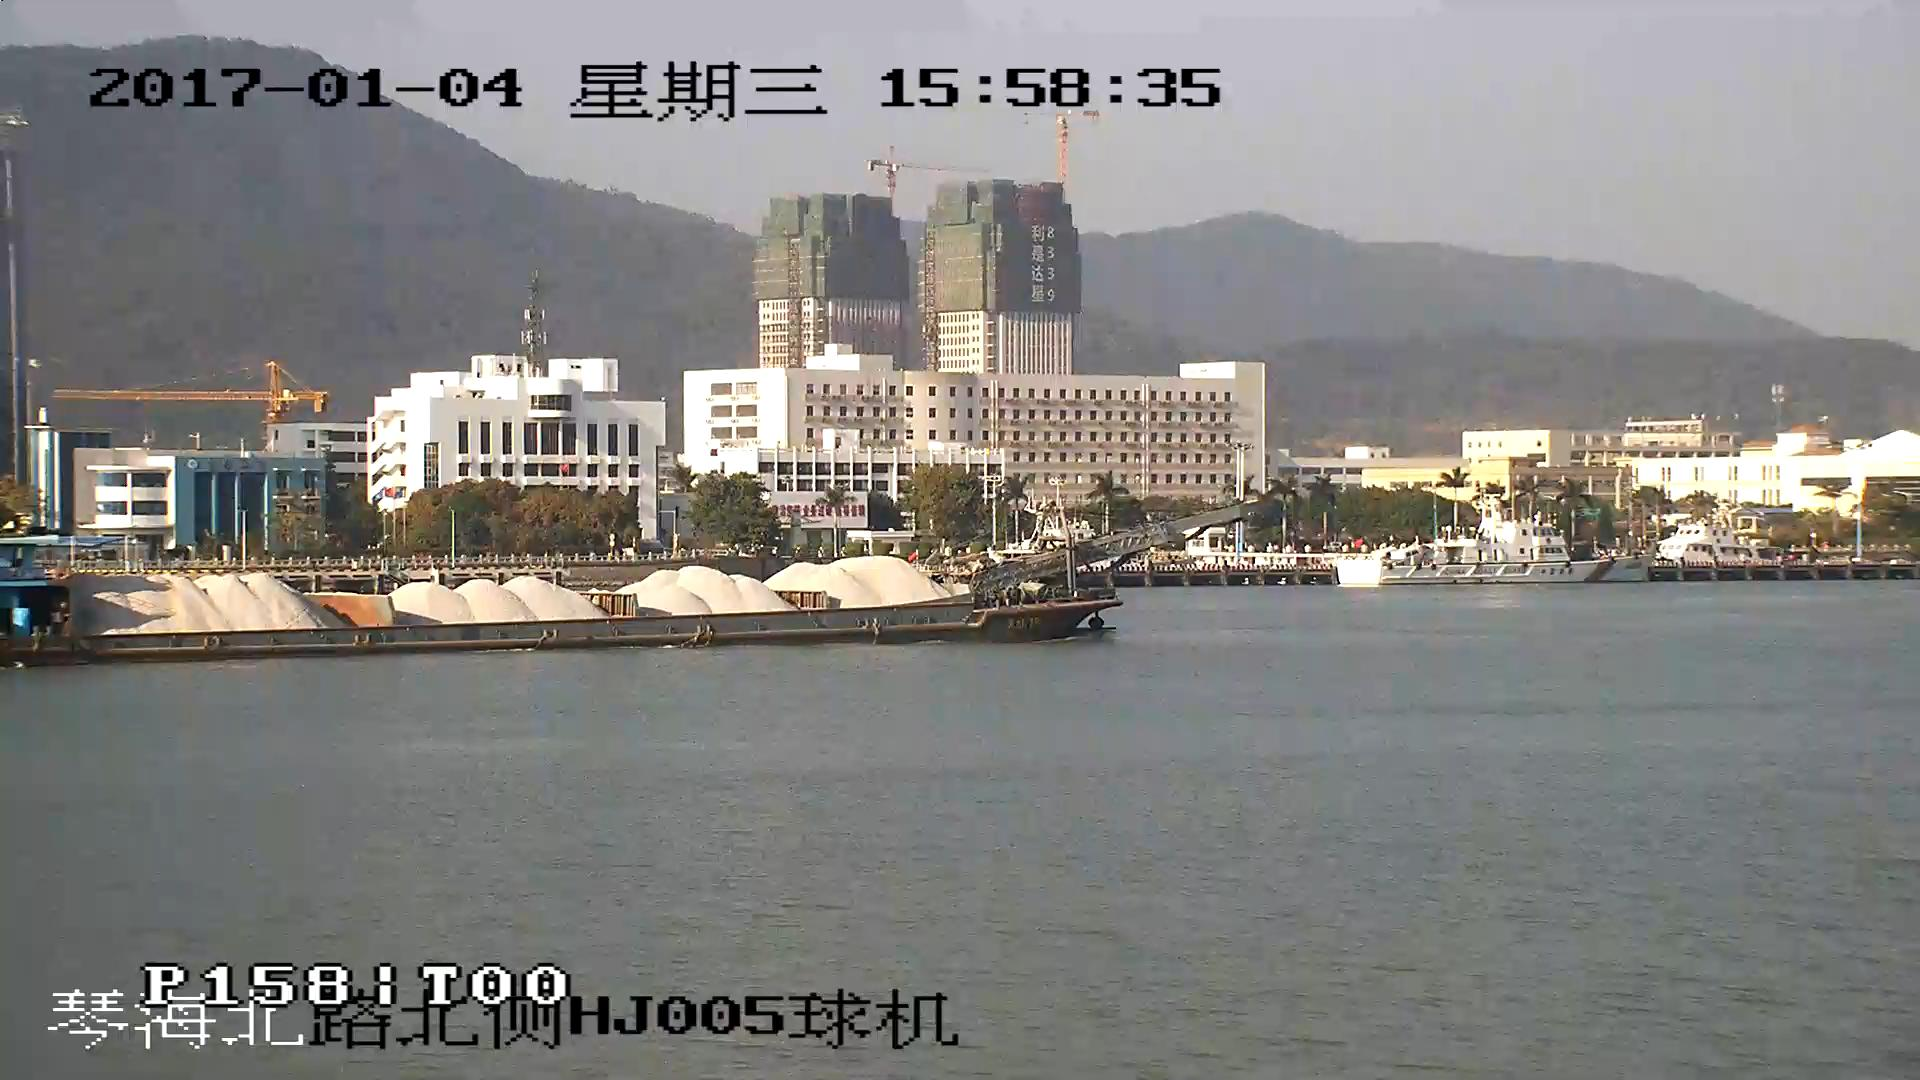ore carrier: (1, 499, 1254, 668)
